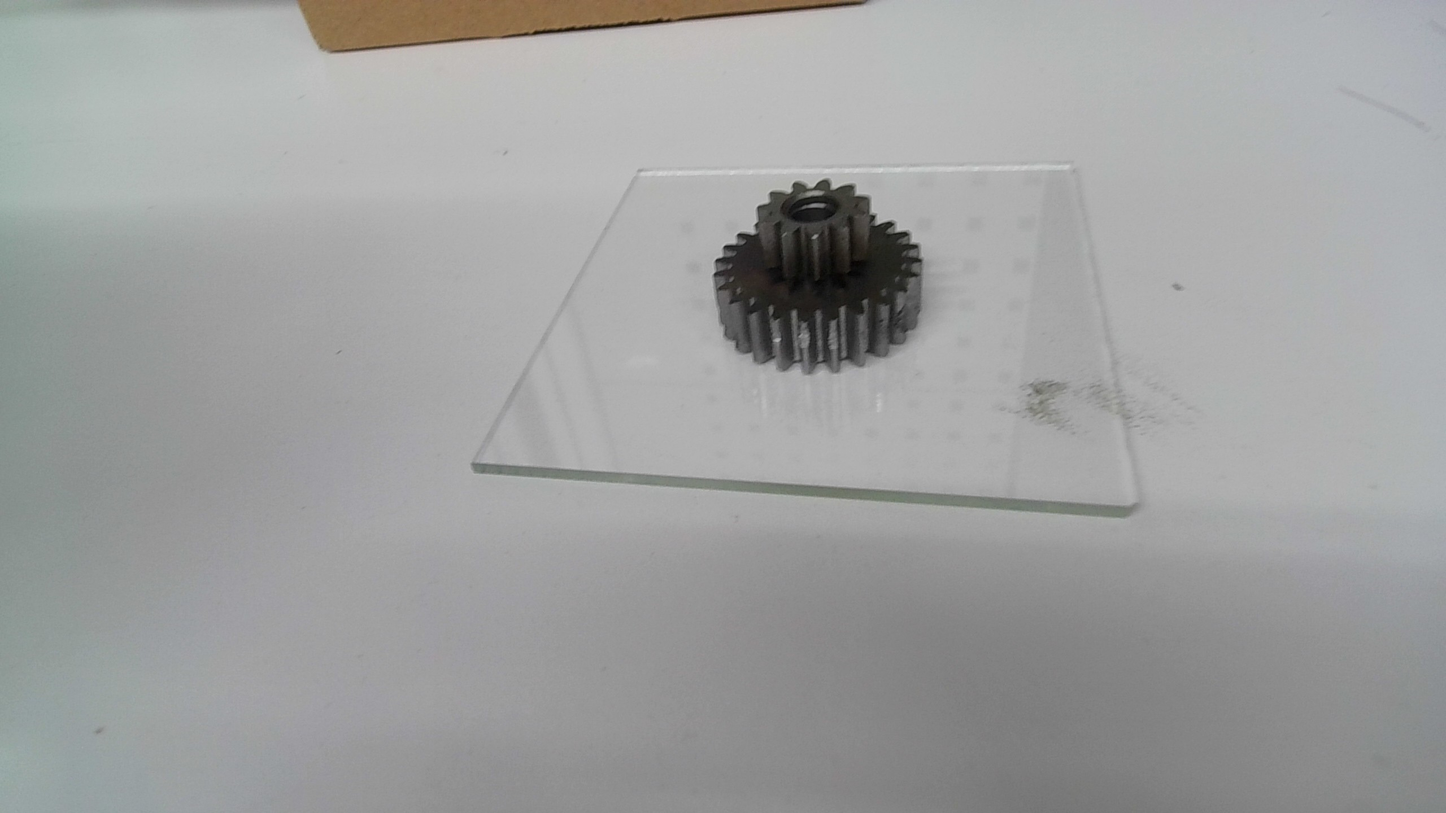gear: (709, 174, 926, 376)
